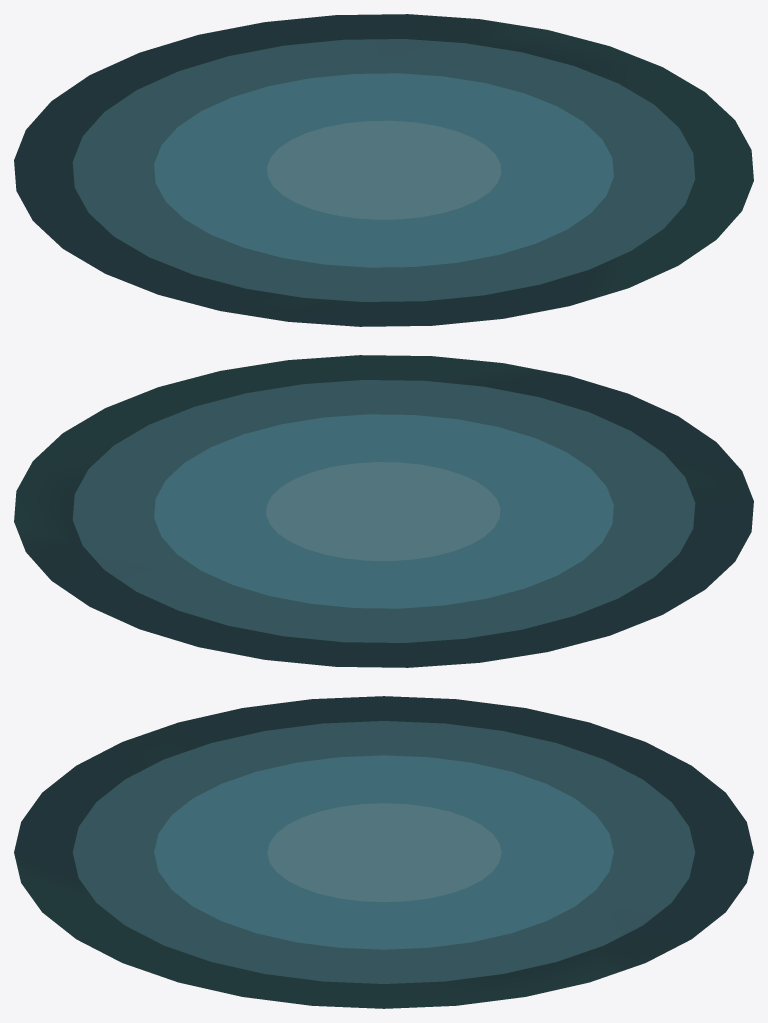
The model's file is carpet.fbx.
3 views of the same model, one above another, from view 1: azimuth 30°, elevation 25°; view 2: azimuth 150°, elevation 25°; view 3: azimuth 270°, elevation 25° (orthographic).
Parts seen in each view (by area): view 1: carpet; view 2: carpet; view 3: carpet.
Part boxes in pixels (bbox=[...]): carpet: bbox=[14, 14, 753, 326]; carpet: bbox=[14, 355, 753, 667]; carpet: bbox=[14, 696, 753, 1008].
Bounding box in the file's own units: 6.66 × 0.000336 × 6.66.
